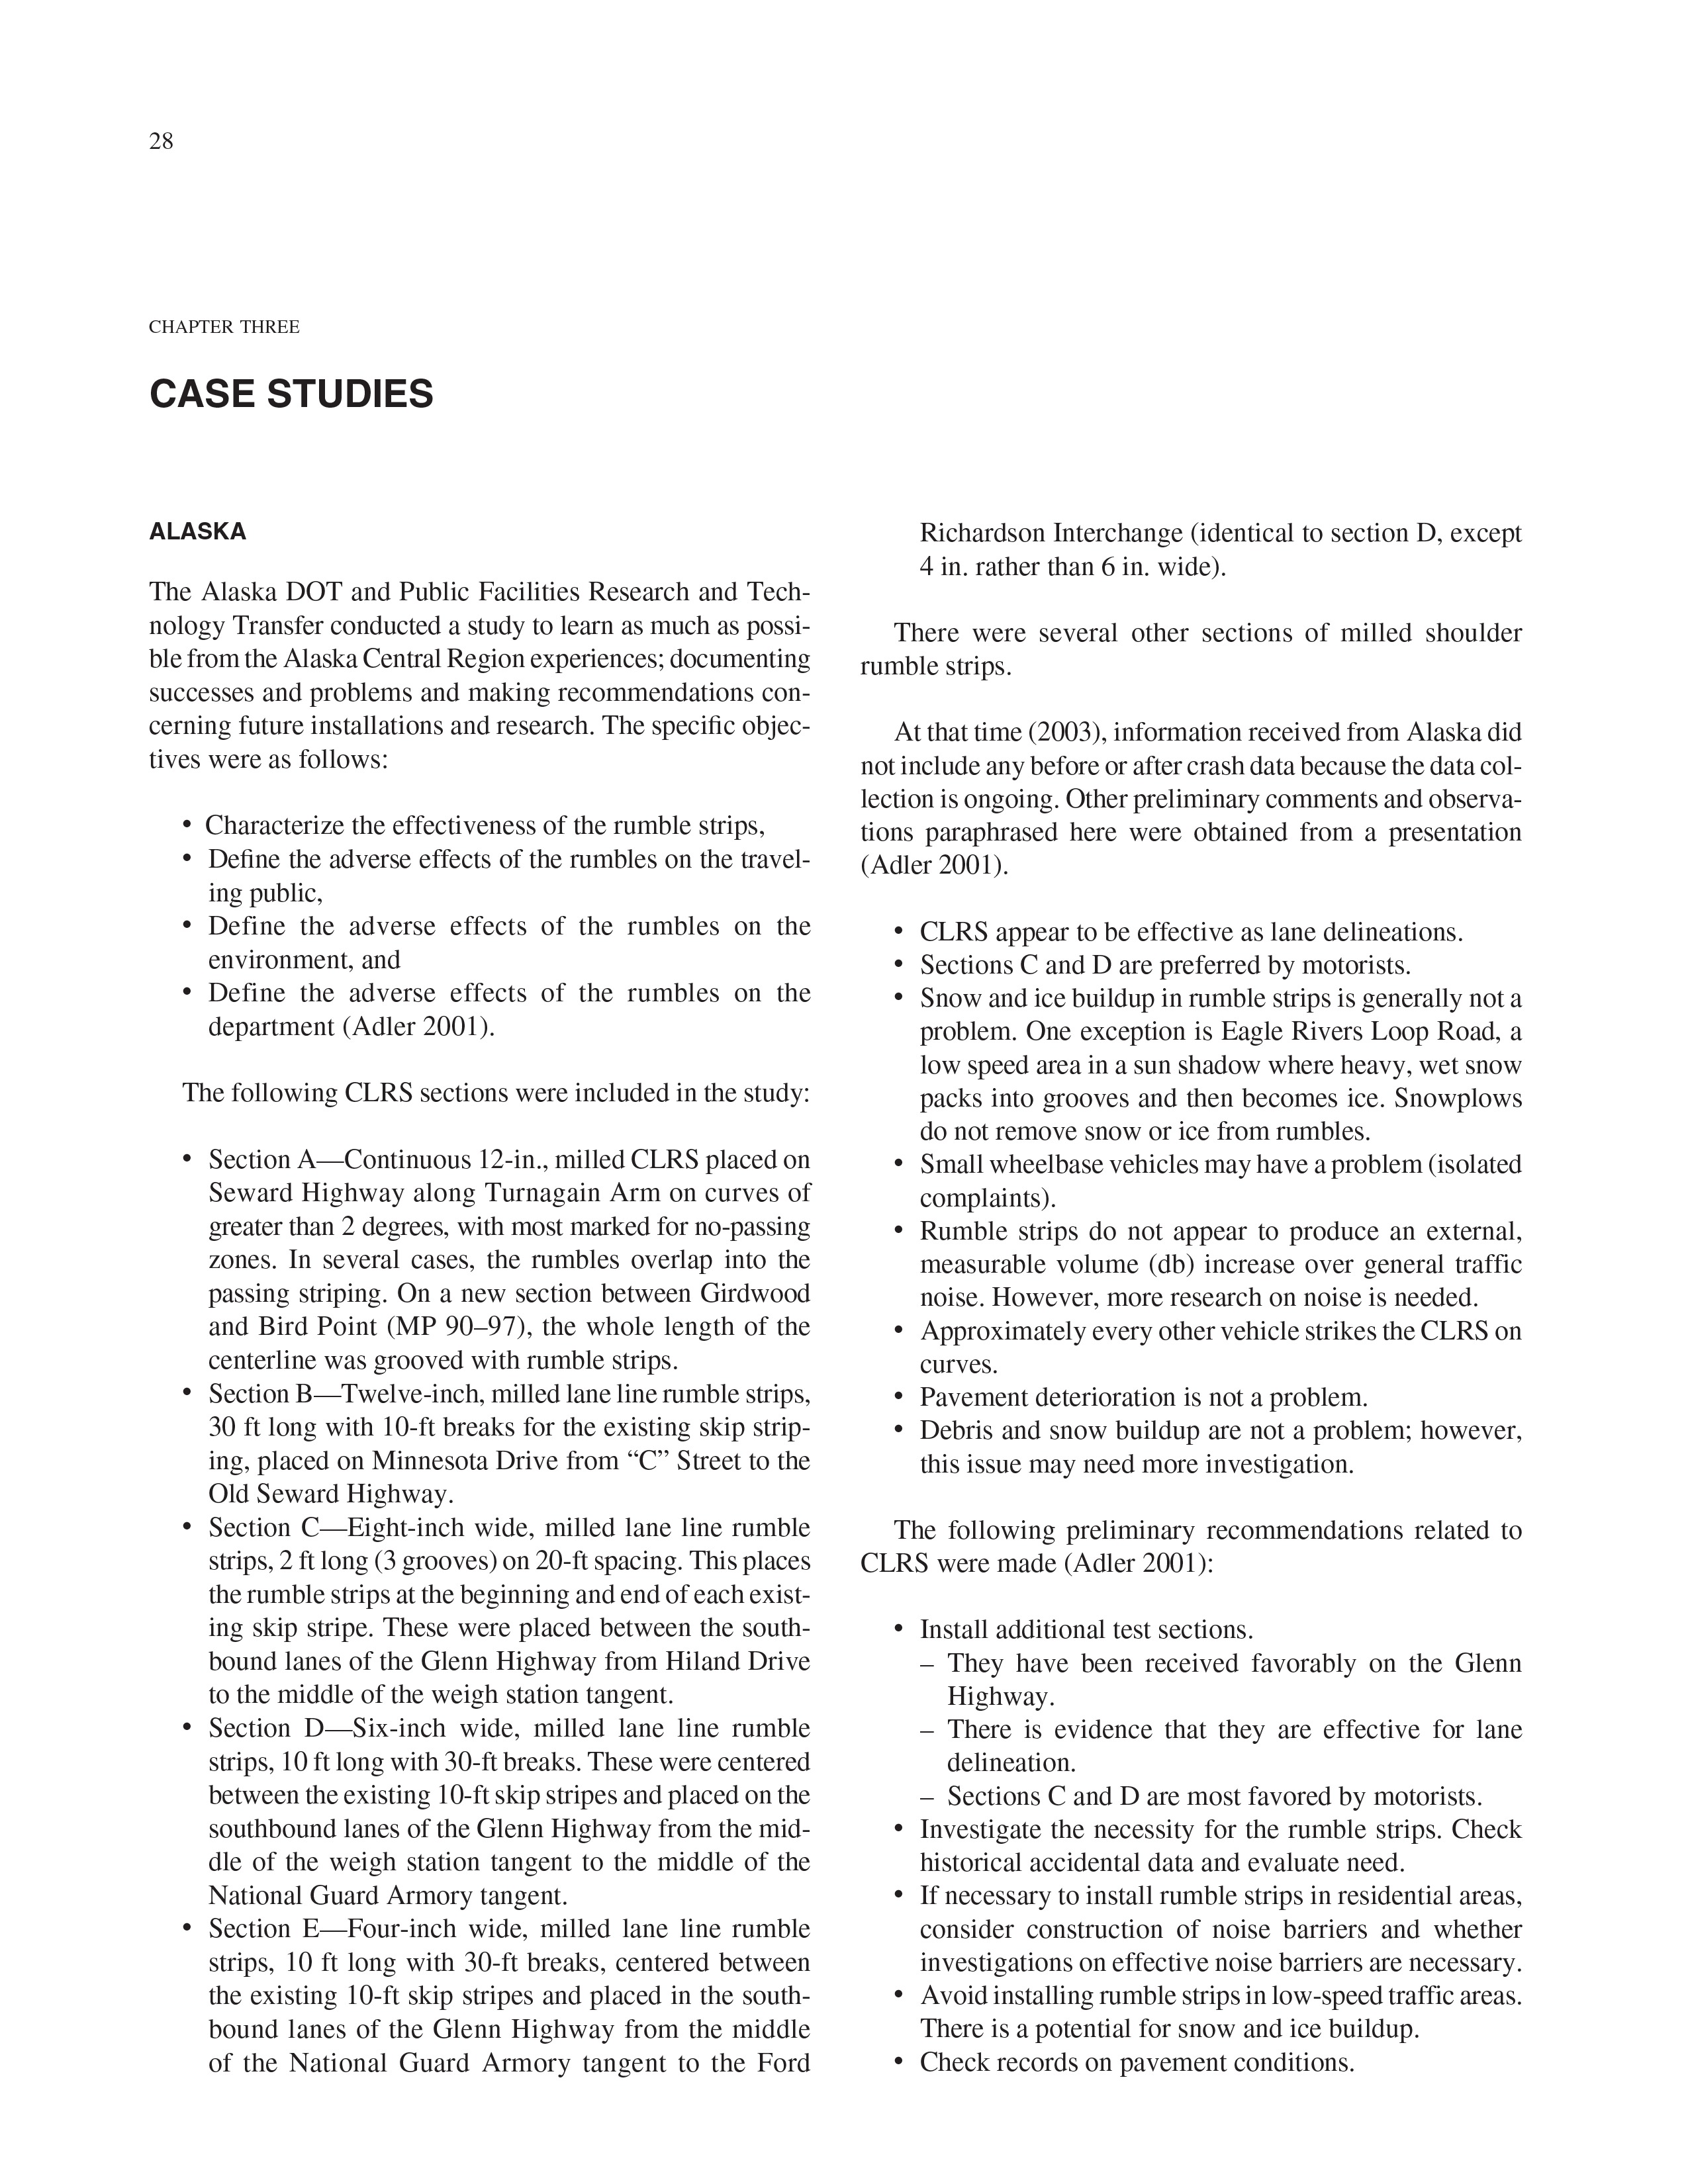list: (165, 1143, 842, 2104), (879, 906, 1539, 1496), (876, 1611, 1539, 2104), (161, 792, 807, 1067)
section: (126, 347, 459, 425), (133, 498, 275, 555)
text: (161, 799, 826, 1064), (122, 574, 819, 787), (860, 697, 1539, 886), (853, 1500, 1537, 1603), (903, 498, 1530, 596), (853, 612, 1534, 688), (186, 1078, 807, 1113)
